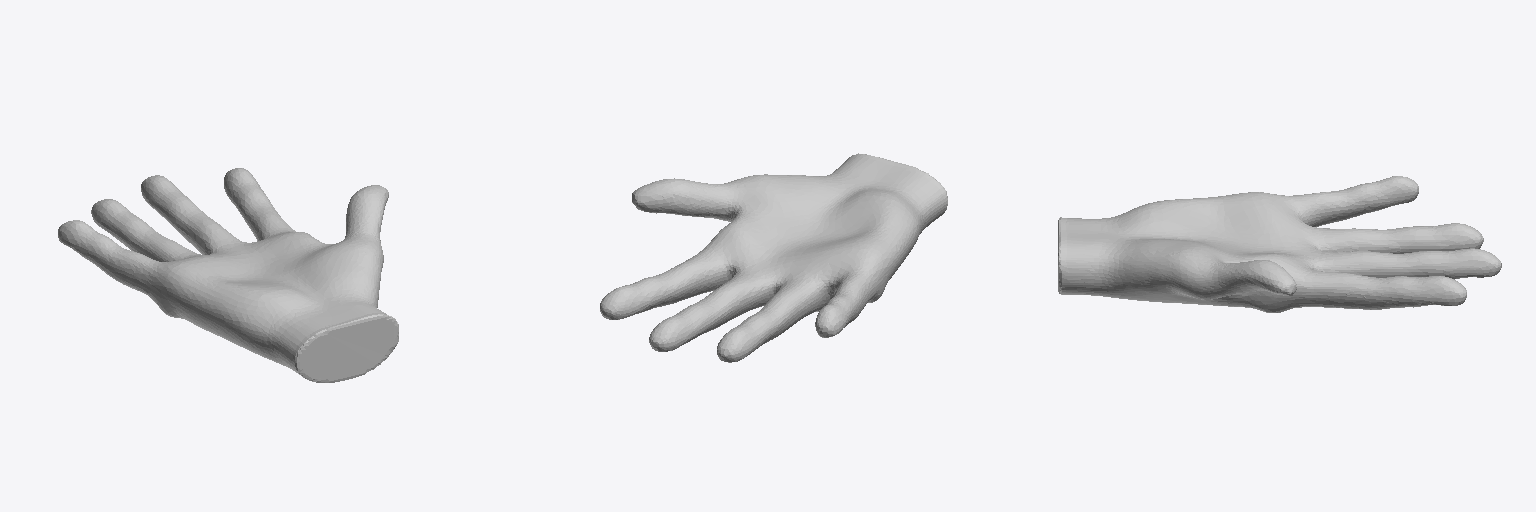
Rendered from base_hand.obj.
3 renders of one model, left to right at view 1: azimuth 30°, elevation 25°; view 2: azimuth 150°, elevation 25°; view 3: azimuth 270°, elevation 25°, orthographic.
Visible parts, largest first — view 1: base_hand_o_base_hand_m; view 2: base_hand_o_base_hand_m; view 3: base_hand_o_base_hand_m.
Boxes of the visible parts, x1=… form: base_hand_o_base_hand_m: x1=58, y1=168, x2=398, y2=382; base_hand_o_base_hand_m: x1=600, y1=153, x2=947, y2=362; base_hand_o_base_hand_m: x1=1058, y1=176, x2=1501, y2=312.
Size of the model in its own units: 1.56 by 0.4991 by 2.25.